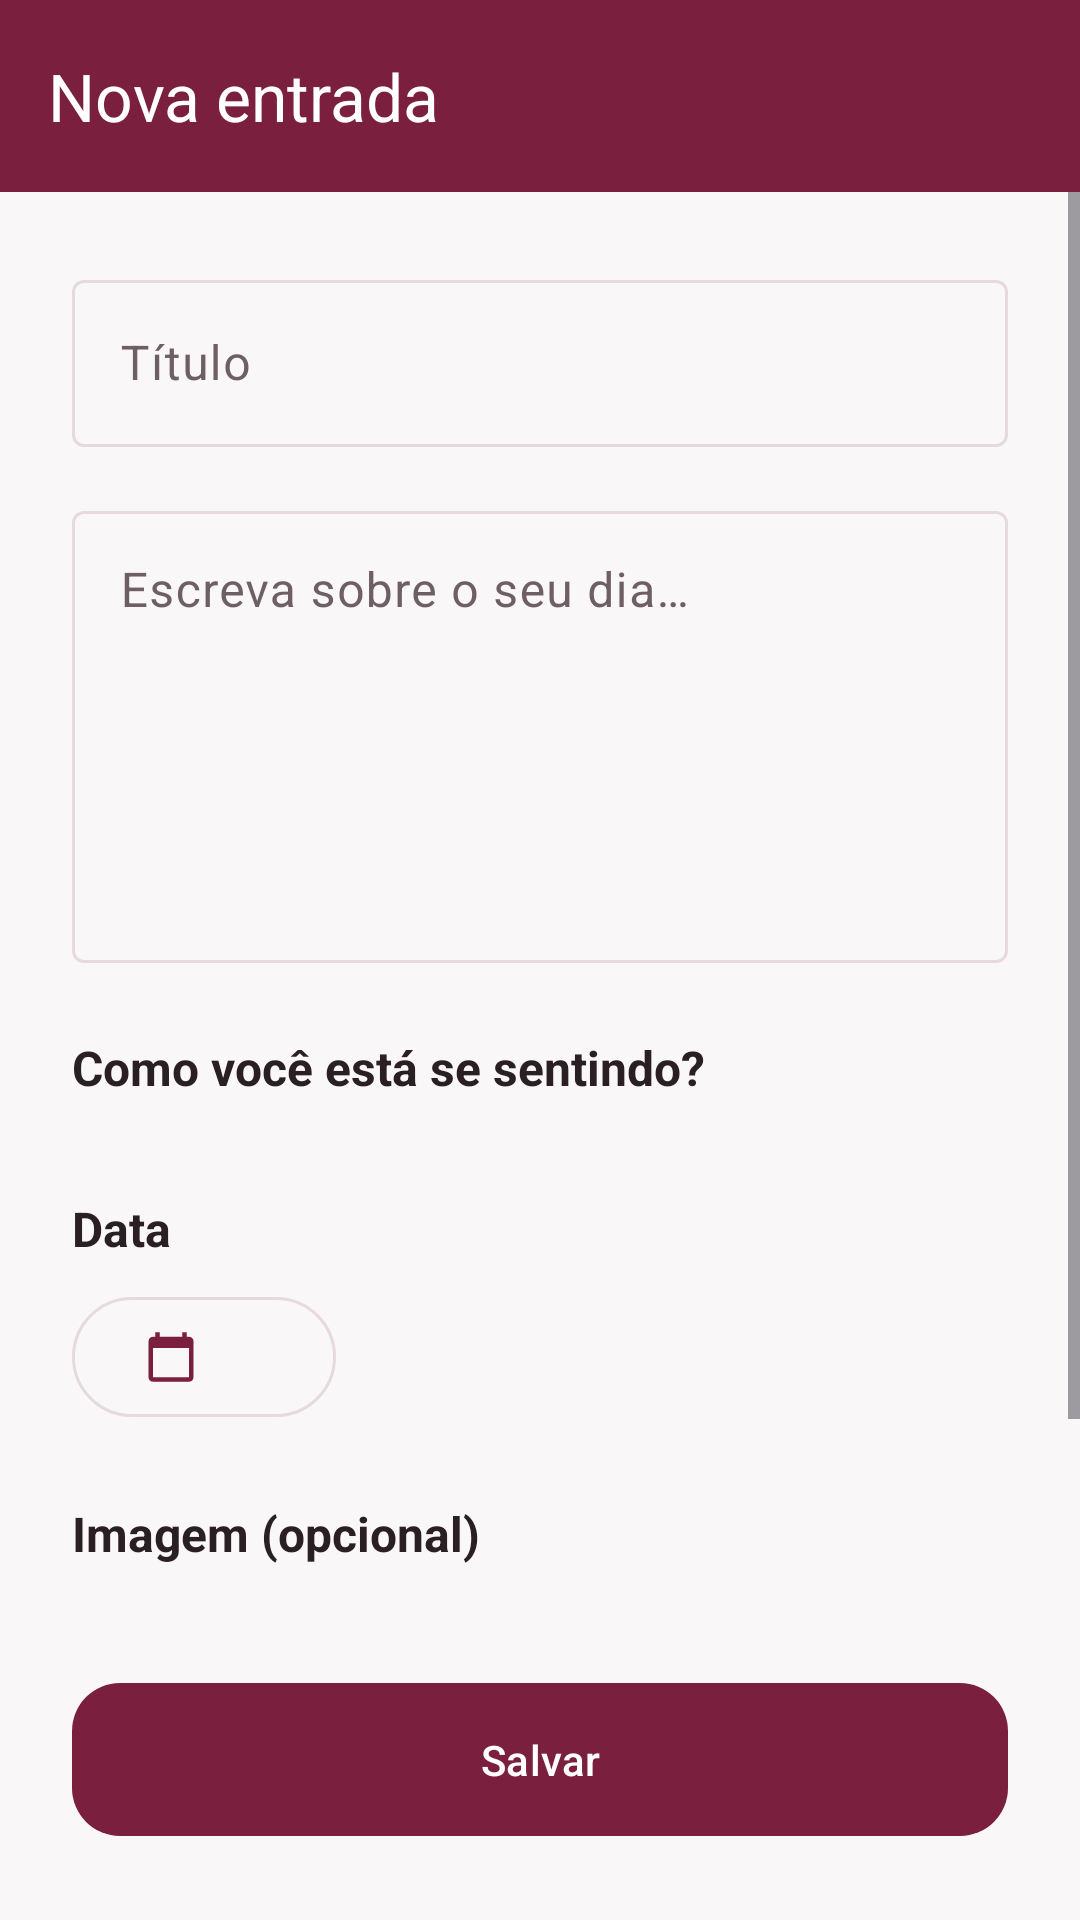

Named icons in this screenshot (1080px×1920px) and their centers, (x=x, y=y):
calendar: (x=204, y=1357)
